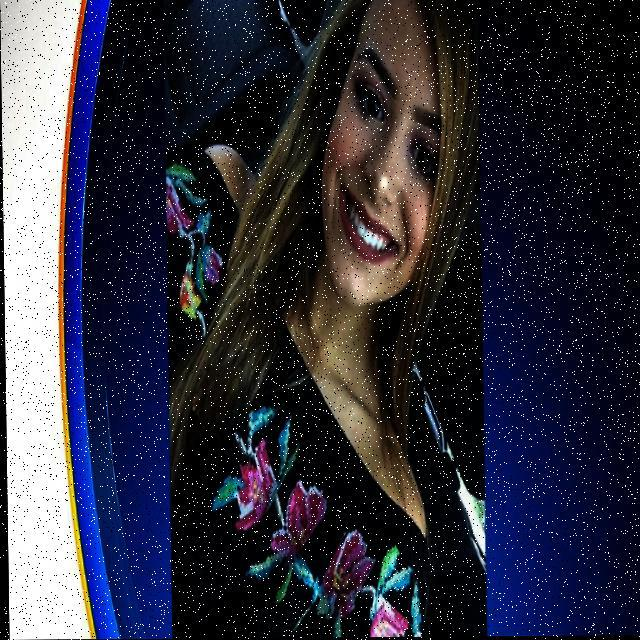noSeatbelt: (166, 131, 426, 639)
